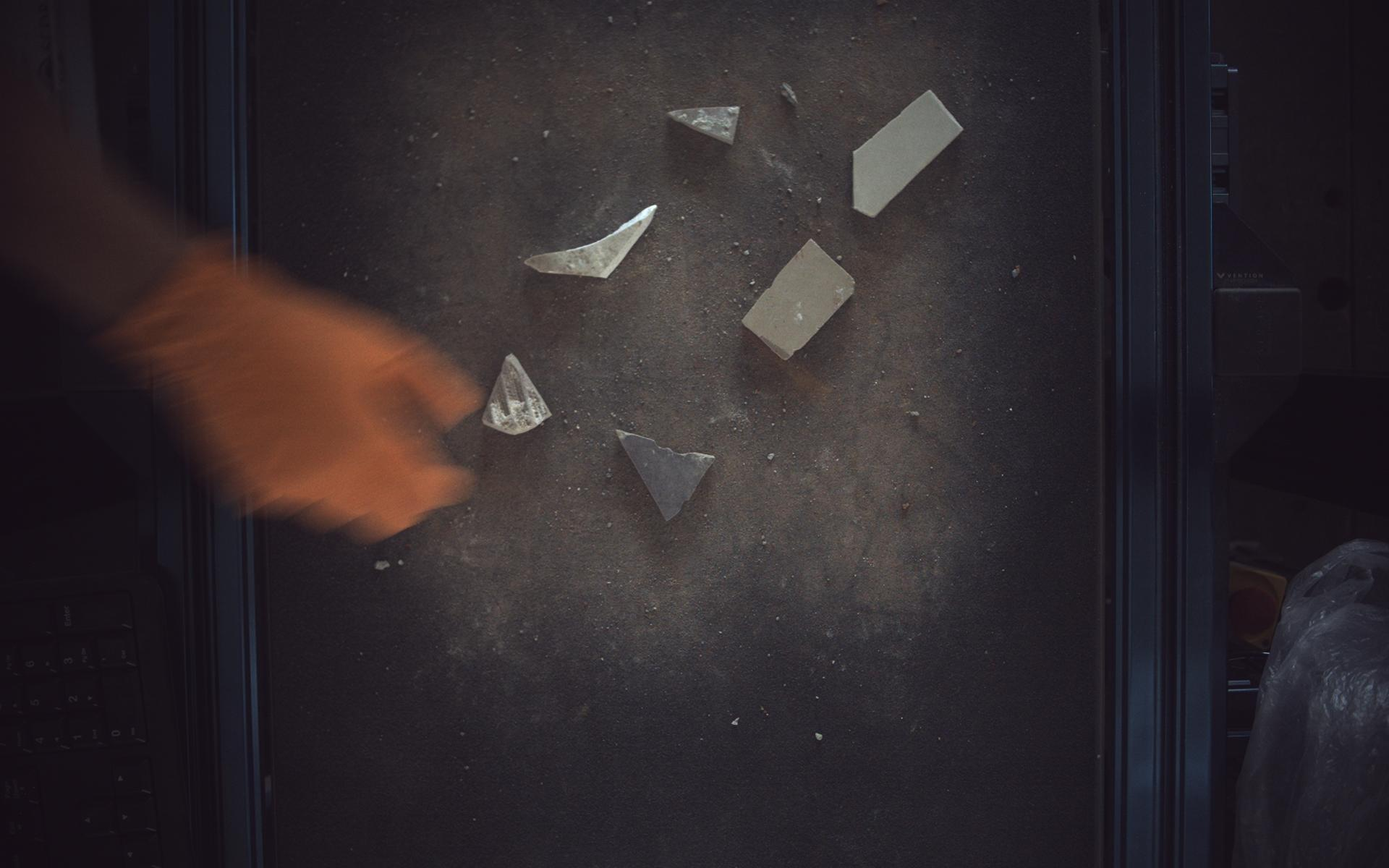tile: (855, 89, 965, 216), (743, 239, 856, 359), (525, 204, 658, 278), (617, 430, 715, 521), (483, 354, 553, 435), (670, 105, 741, 143)
